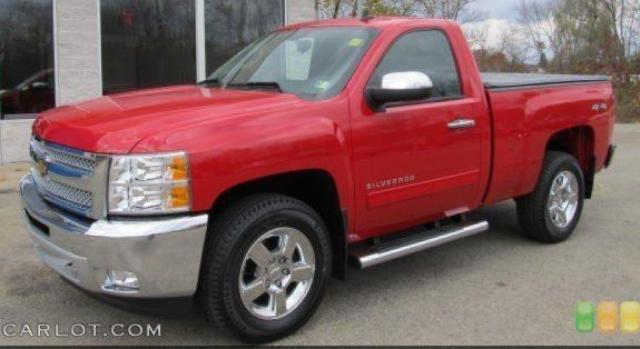pickup-truck: (18, 15, 618, 343)
